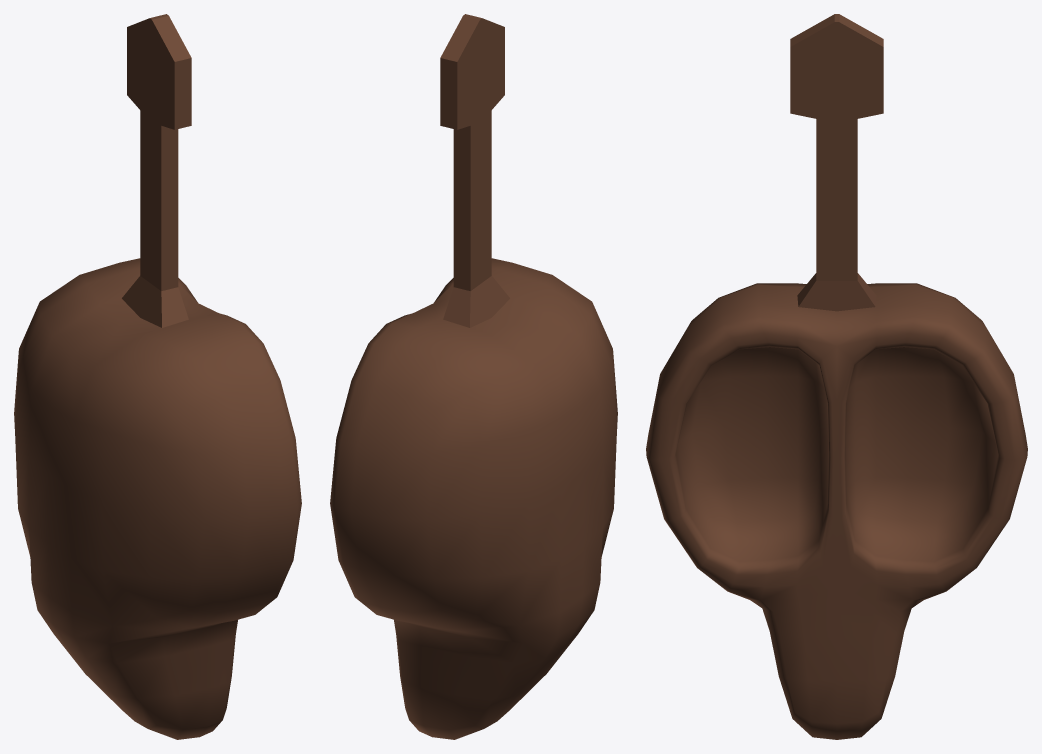
Rendered from Instrument.fbx.
3 views of the same model, side by side, from view 1: azimuth 30°, elevation 25°; view 2: azimuth 150°, elevation 25°; view 3: azimuth 270°, elevation 25° (orthographic). The views are drawn at different scales.
Parts seen in each view (by area): view 1: Cube, Cube.001; view 2: Cube, Cube.001; view 3: Cube, Cube.001.
Part boxes in pixels (x1,y1,x2,y2): Cube: (14, 258, 301, 739); Cube.001: (122, 14, 191, 327); Cube: (330, 258, 617, 739); Cube.001: (440, 14, 509, 327); Cube: (646, 283, 1027, 739); Cube.001: (790, 14, 883, 311).
Size of the model in its own units: 113 by 481 by 236.
